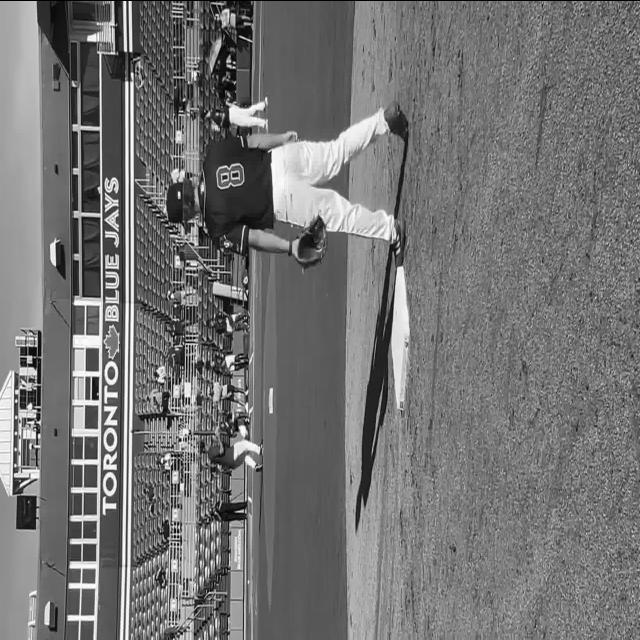base: (391, 264, 410, 409)
baseball_glove: (296, 213, 328, 269)
shoe: (384, 102, 409, 142), (391, 218, 405, 267)
